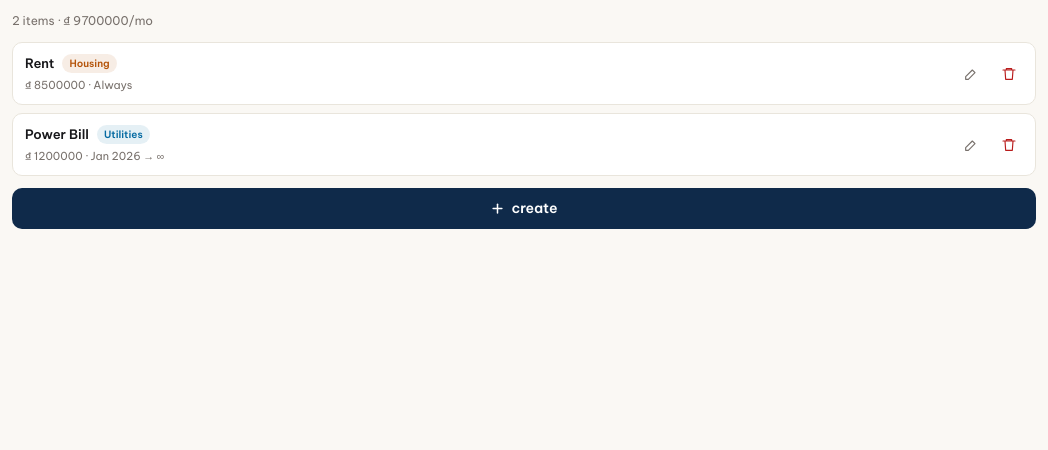
Test: FixedExpenseManager — list › exposes an Add button that opens the form
Expected: the text "Rent" is shown, [25, 54, 54, 74]
Click the button with test id "fe-add" at (524, 208), box [12, 188, 1036, 229]
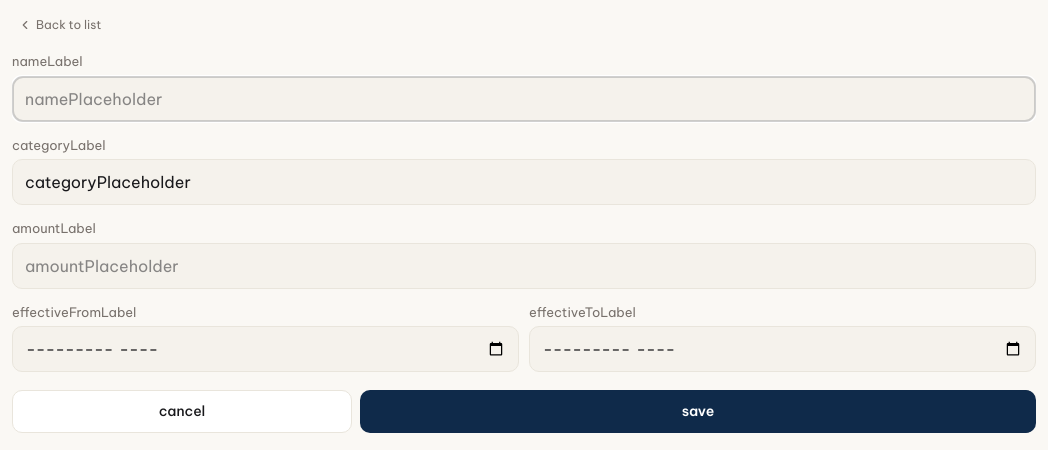
Result: the field with test id "fe-name" is shown at [12, 76, 1036, 122]
Result: the dropdown with test id "fe-category" is shown at [12, 159, 1036, 205]
Result: the field with test id "fe-amount" is shown at [12, 242, 1036, 288]
